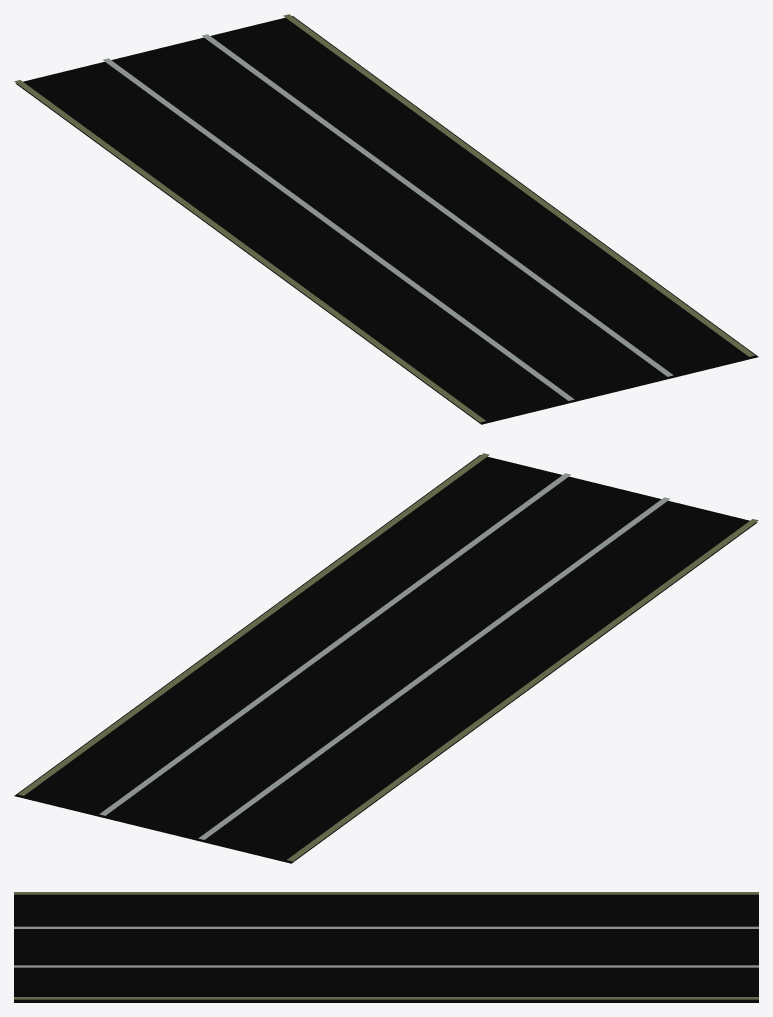
File: douro.fbx
3 renders of one model, top to bottom at view 1: azimuth 30°, elevation 25°; view 2: azimuth 150°, elevation 25°; view 3: azimuth 270°, elevation 25°, orthographic. The views are drawn at different scales.
Parts seen in each view (by area): view 1: pPlane8; view 2: pPlane8; view 3: pPlane8.
Boxes of the visible parts, left/top/right/bottom form: pPlane8: left=14, top=14, right=758, bottom=424; pPlane8: left=14, top=453, right=758, bottom=863; pPlane8: left=14, top=892, right=758, bottom=1002.
Size of the model in its own units: 3.62 by 0.0309 by 10.5.
